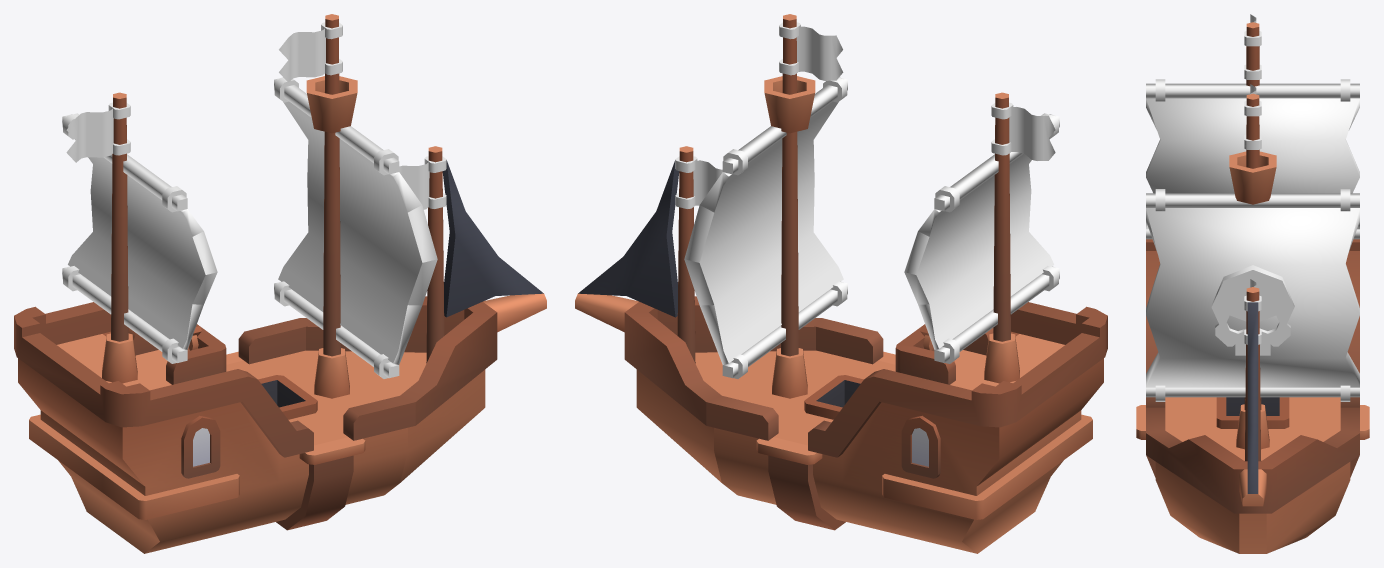
The model's file is brig.glb.
3 renders of one model, left to right at view 1: azimuth 30°, elevation 25°; view 2: azimuth 150°, elevation 25°; view 3: azimuth 270°, elevation 25°, orthographic. The views are drawn at different scales.
Parts seen in each view (by area): view 1: ship-pirate-medium, sail-a, sail-b, flag-c, flag-b, flag-a; view 2: ship-pirate-medium, sail-a, sail-b, flag-b, flag-c, flag-a; view 3: sail-a, ship-pirate-medium, sail-b, flag-b, flag-c.
Part boxes in pixels (x1,y1,x2,y2): ship-pirate-medium: (14,14,546,553); sail-a: (274,77,437,378); sail-b: (62,113,217,363); flag-c: (66,102,130,162); flag-b: (279,22,342,82); flag-a: (399,156,446,209); ship-pirate-medium: (575,14,1107,553); sail-a: (684,77,847,378); sail-b: (904,113,1059,363); flag-b: (779,22,843,80); flag-c: (991,102,1055,160); flag-a: (675,156,722,208); sail-a: (1146,189,1359,401); ship-pirate-medium: (1136,22,1369,553); sail-b: (1146,79,1359,239); flag-b: (1244,84,1261,149); flag-c: (1244,14,1261,79).
Size of the model in its own units: 0.7 by 0.658 by 0.317.
Materials: 2 (1 with a texture image).
